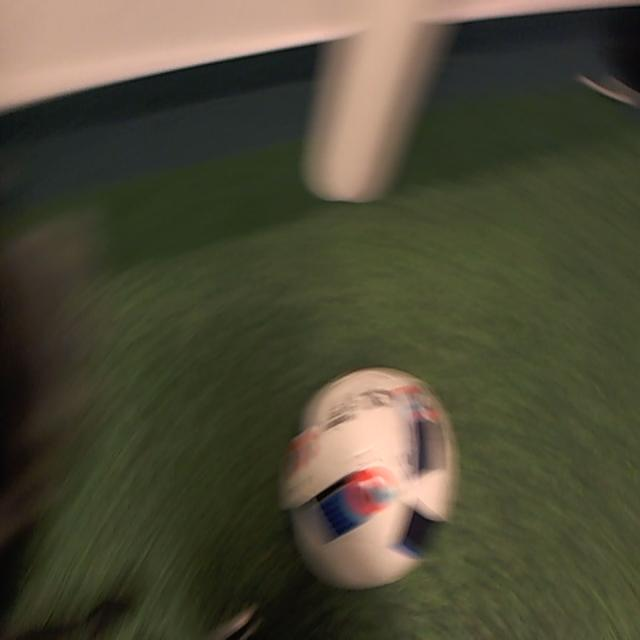ball: (286, 368, 459, 580)
goalpost: (314, 27, 417, 199)
